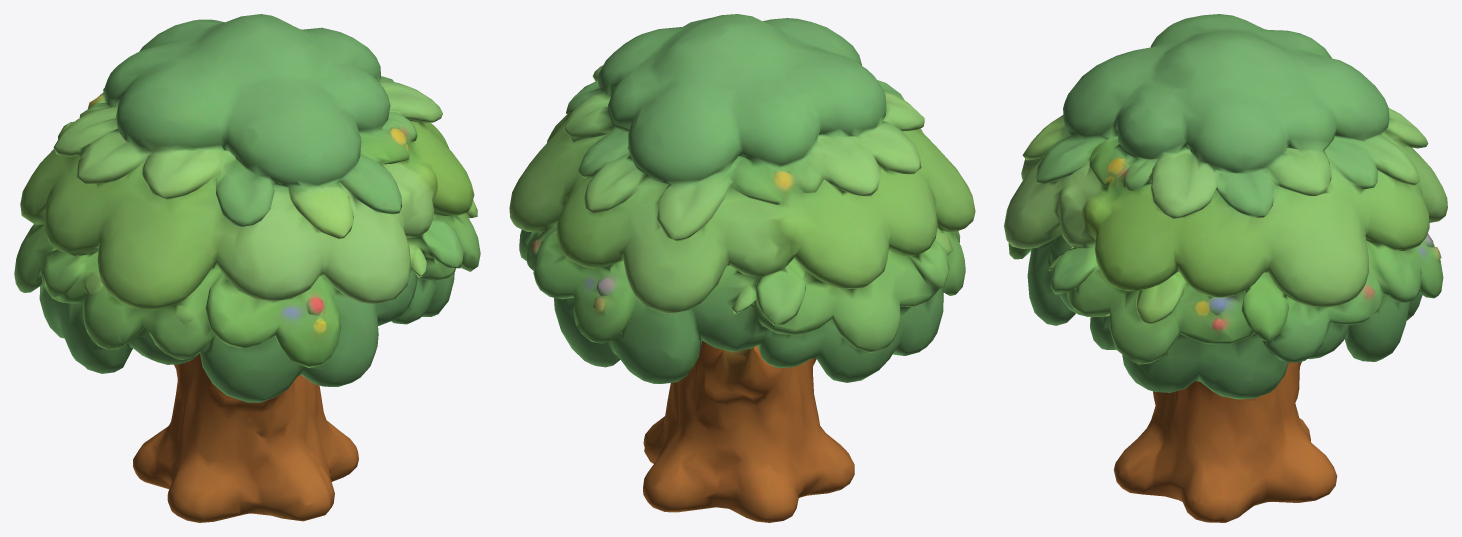
The model's file is round_tree.glb.
3 views of the same model, side by side, from view 1: azimuth 30°, elevation 25°; view 2: azimuth 150°, elevation 25°; view 3: azimuth 270°, elevation 25° (orthographic). The views are drawn at different scales.
Parts seen in each view (by area): view 1: tripo_node_ea0d3c59-e0e5-4512-8bc0-a5860fd3aec4; view 2: tripo_node_ea0d3c59-e0e5-4512-8bc0-a5860fd3aec4; view 3: tripo_node_ea0d3c59-e0e5-4512-8bc0-a5860fd3aec4.
Boxes of the visible parts, bbox=[...] form: tripo_node_ea0d3c59-e0e5-4512-8bc0-a5860fd3aec4: bbox=[14, 14, 480, 522]; tripo_node_ea0d3c59-e0e5-4512-8bc0-a5860fd3aec4: bbox=[509, 14, 975, 522]; tripo_node_ea0d3c59-e0e5-4512-8bc0-a5860fd3aec4: bbox=[1004, 14, 1447, 522].
Bounding box in the file's own units: 0.9168 × 1 × 0.9.
Materials: 1 (1 with a texture image).
